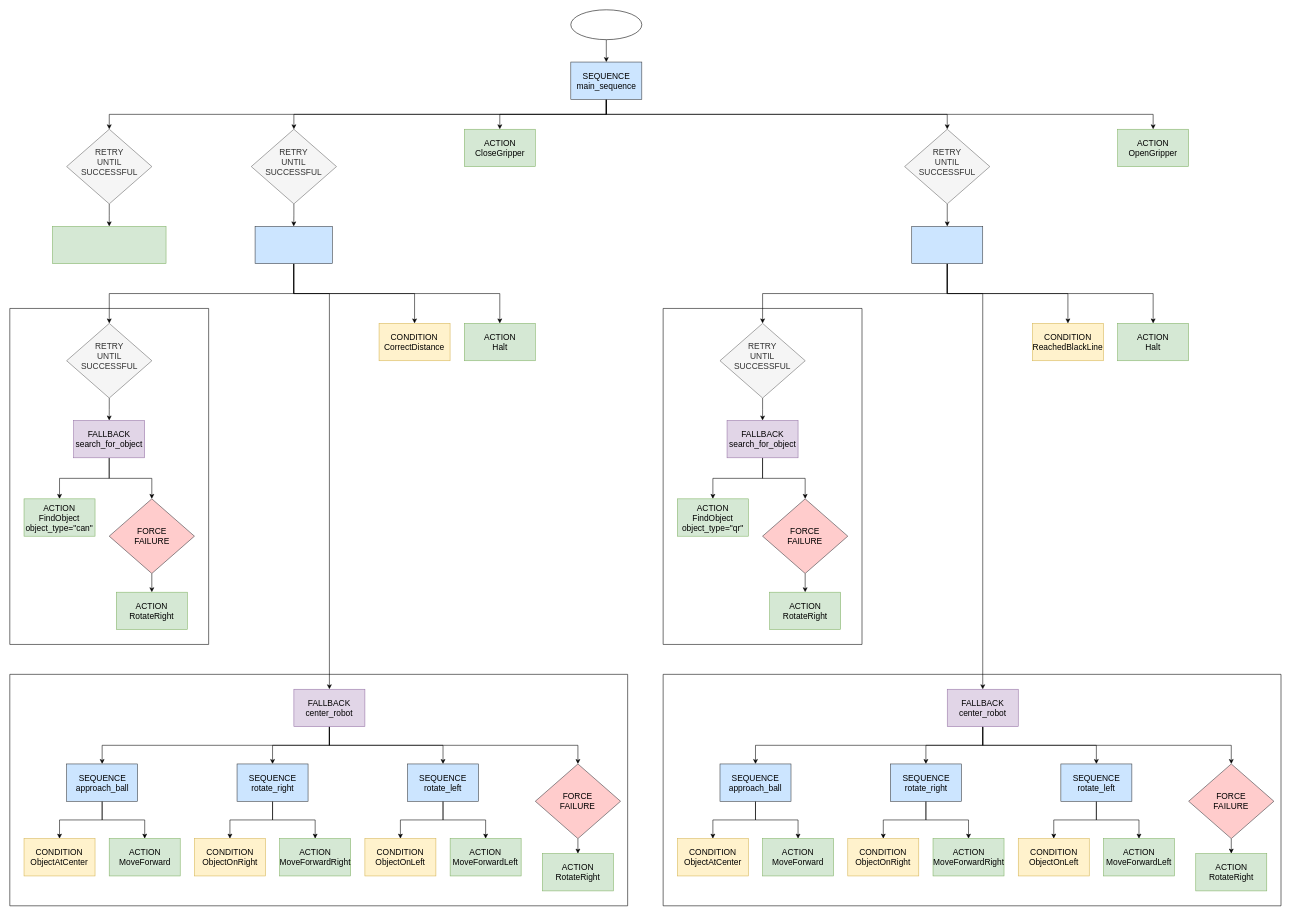
Some shapes in this 1291 by 916 pixel diagram are drawn without their labels. Each missing label, with the centre of its shape:
"ACTION EnsureDetectionSuccessful" belongs at [109,245].
"ROOT" belongs at [606,24].
"SEQUENCE center_robot_to_can" belongs at [293,245].
"SEQUENCE center_robot_to_qr" belongs at [947,245].
